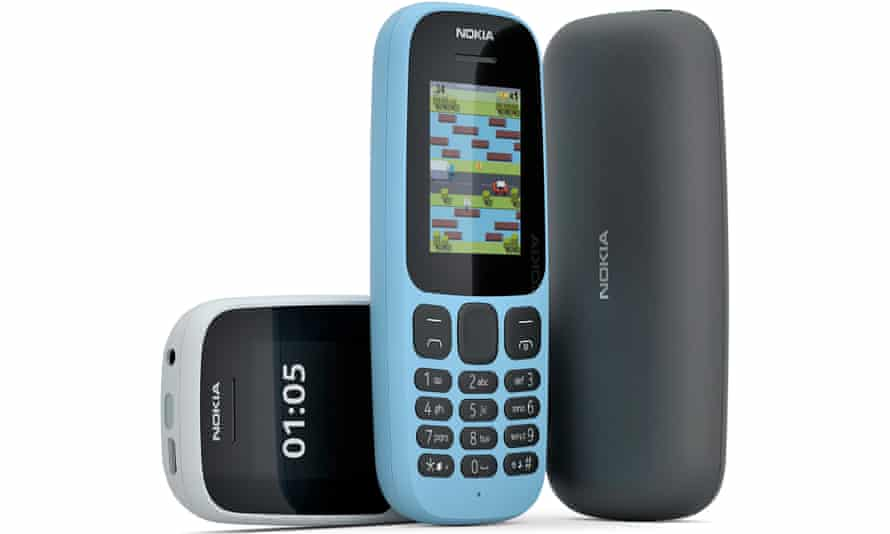phones: (349, 6, 559, 523)
